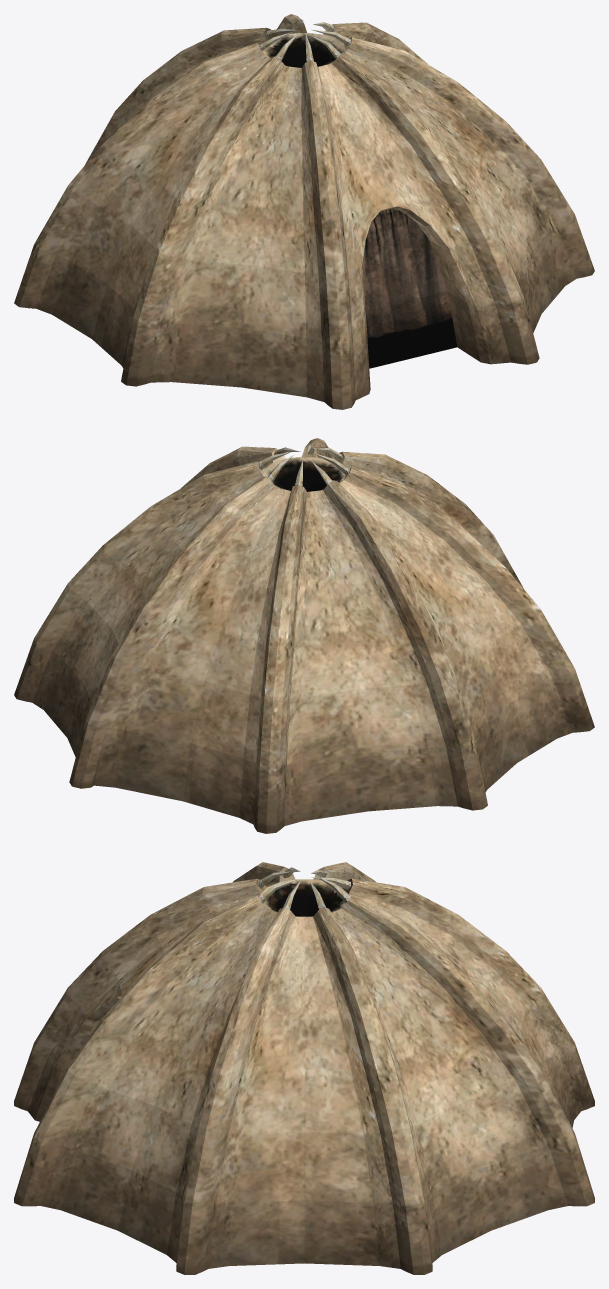
Rendered from poi_tato_tusken_hut_s01_l0.fbx.
3 views of the same model, one above another, from view 1: azimuth 30°, elevation 25°; view 2: azimuth 150°, elevation 25°; view 3: azimuth 270°, elevation 25° (orthographic). The views are drawn at different scales.
Visible parts, largest first — view 1: mesh_node; view 2: mesh_node; view 3: mesh_node.
Part boxes in pixels (box(x1,y1,x2,y2)): mesh_node: box(14, 14, 594, 409); mesh_node: box(14, 438, 594, 833); mesh_node: box(14, 862, 594, 1274).
Bounding box in the file's own units: 6.93 × 3.66 × 6.93.
